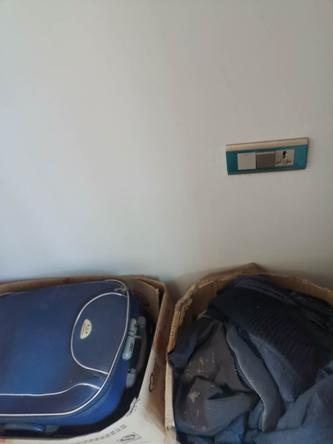switch: (255, 150, 279, 171), (235, 151, 257, 173)
